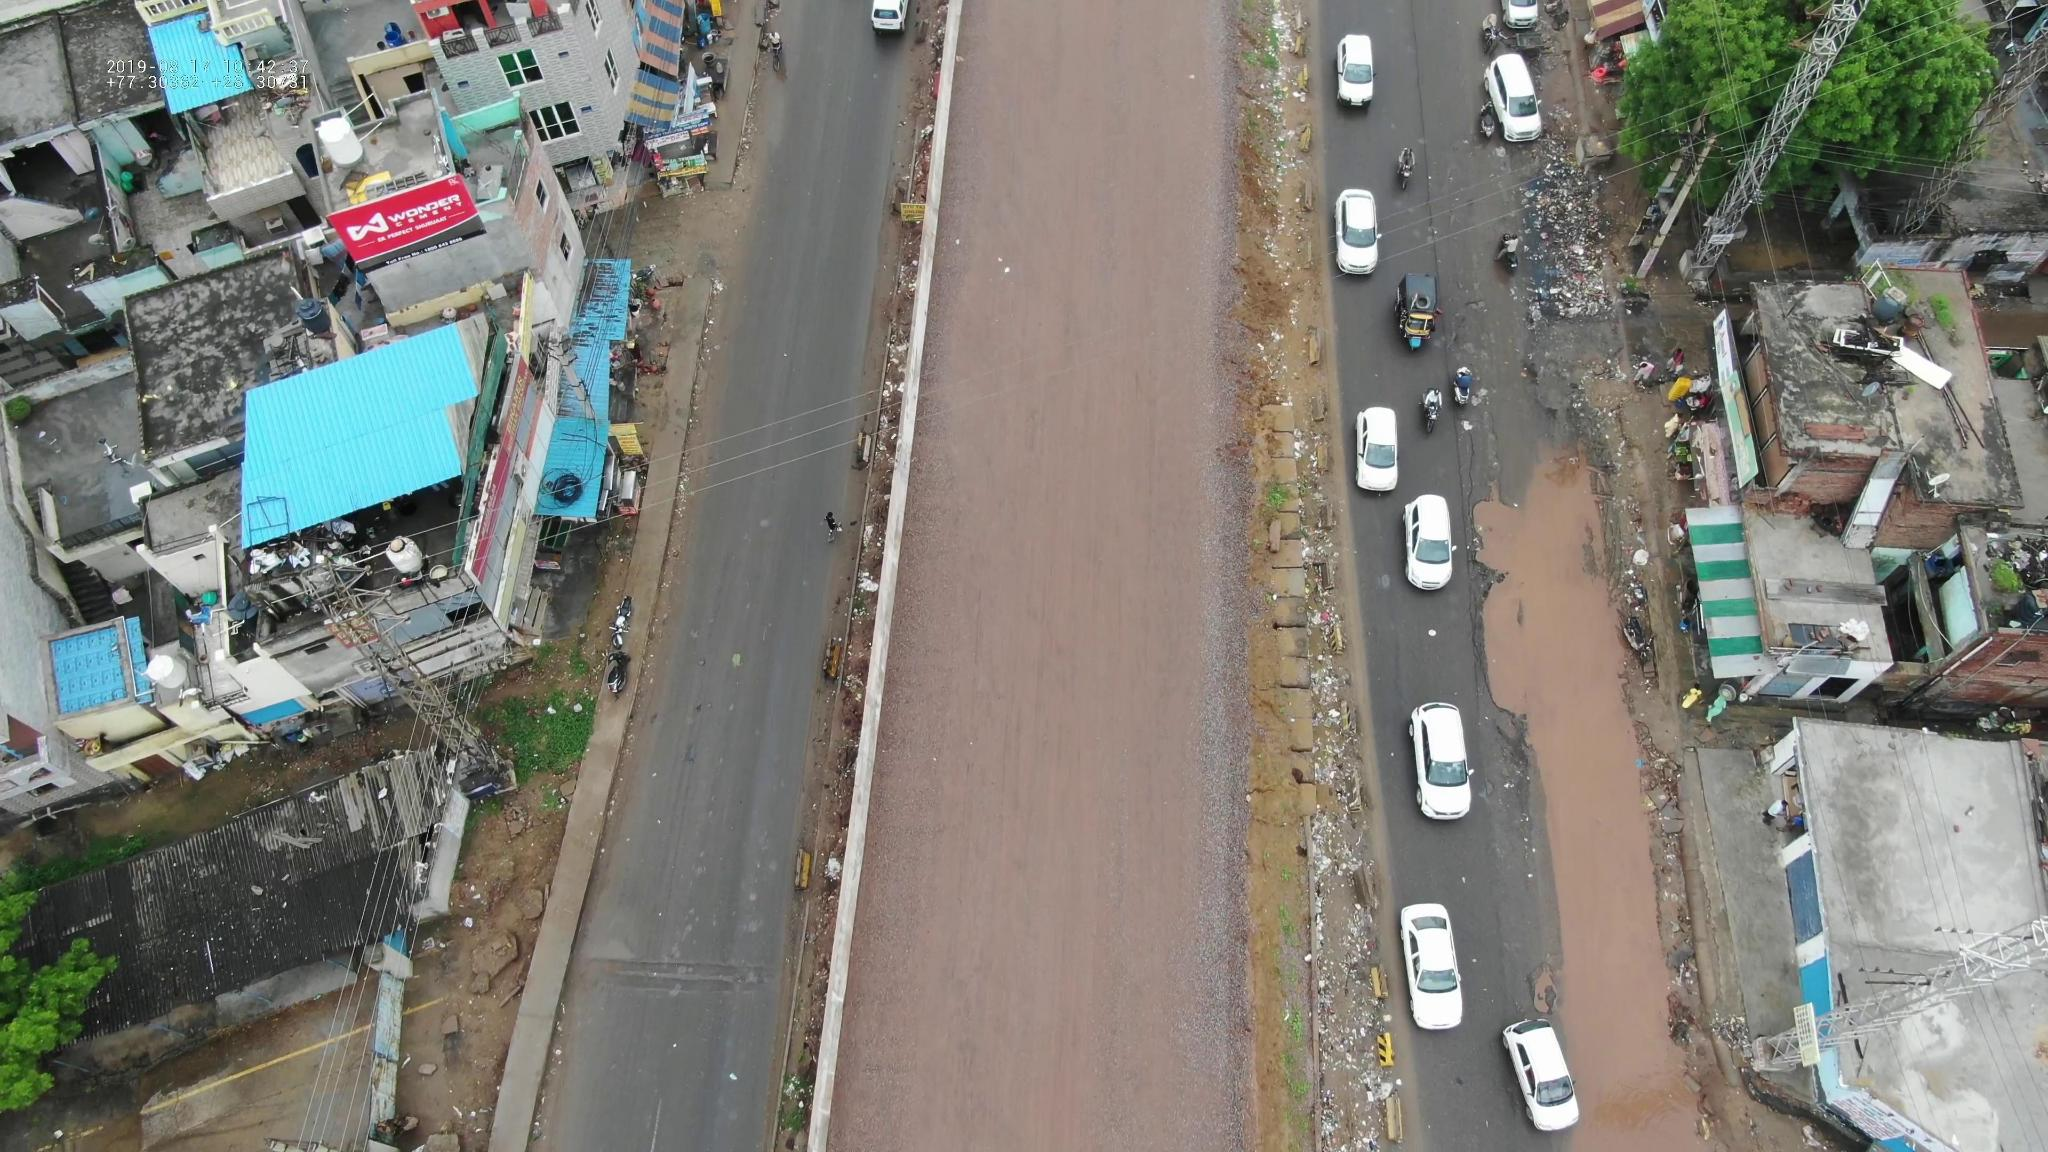Potholes: (646, 845, 762, 1018), (698, 626, 781, 740), (1438, 281, 1499, 363), (1523, 952, 1567, 1039)
Waterlogging: (1499, 785, 1672, 1128), (1459, 464, 1640, 782)
